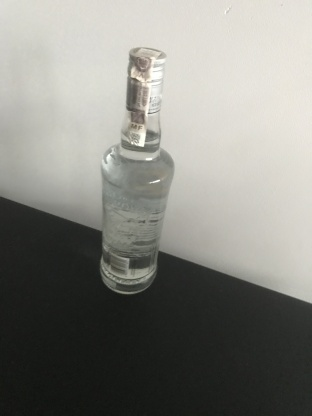nakretka: (124, 44, 167, 116)
